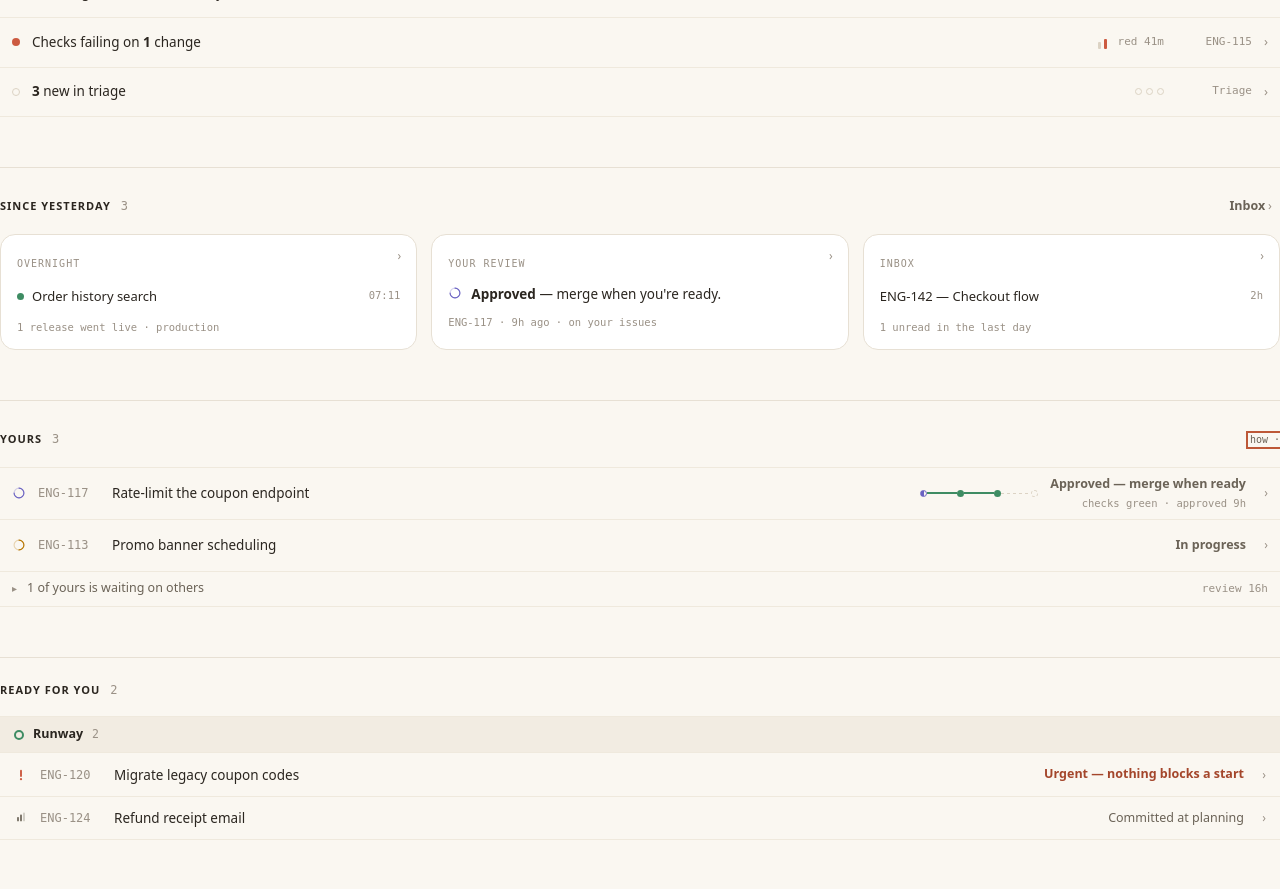
Test case: YOURS carries the bifact rows, the collapsed waiting line and a folded lens definition
(page scrolled)
Expected: the link "Rate-limit the coupon endpoint" shows "Approved — merge when ready", x1=0 y1=467 x2=1279 y2=519
Expected: the link "Rate-limit the coupon endpoint" shows "checks green · approved 9h", x1=0 y1=467 x2=1279 y2=519
Step 1. Click the button with aria-label "How yours is derived" → (1265, 440), box x1=1250 y1=435 x2=1279 y2=445
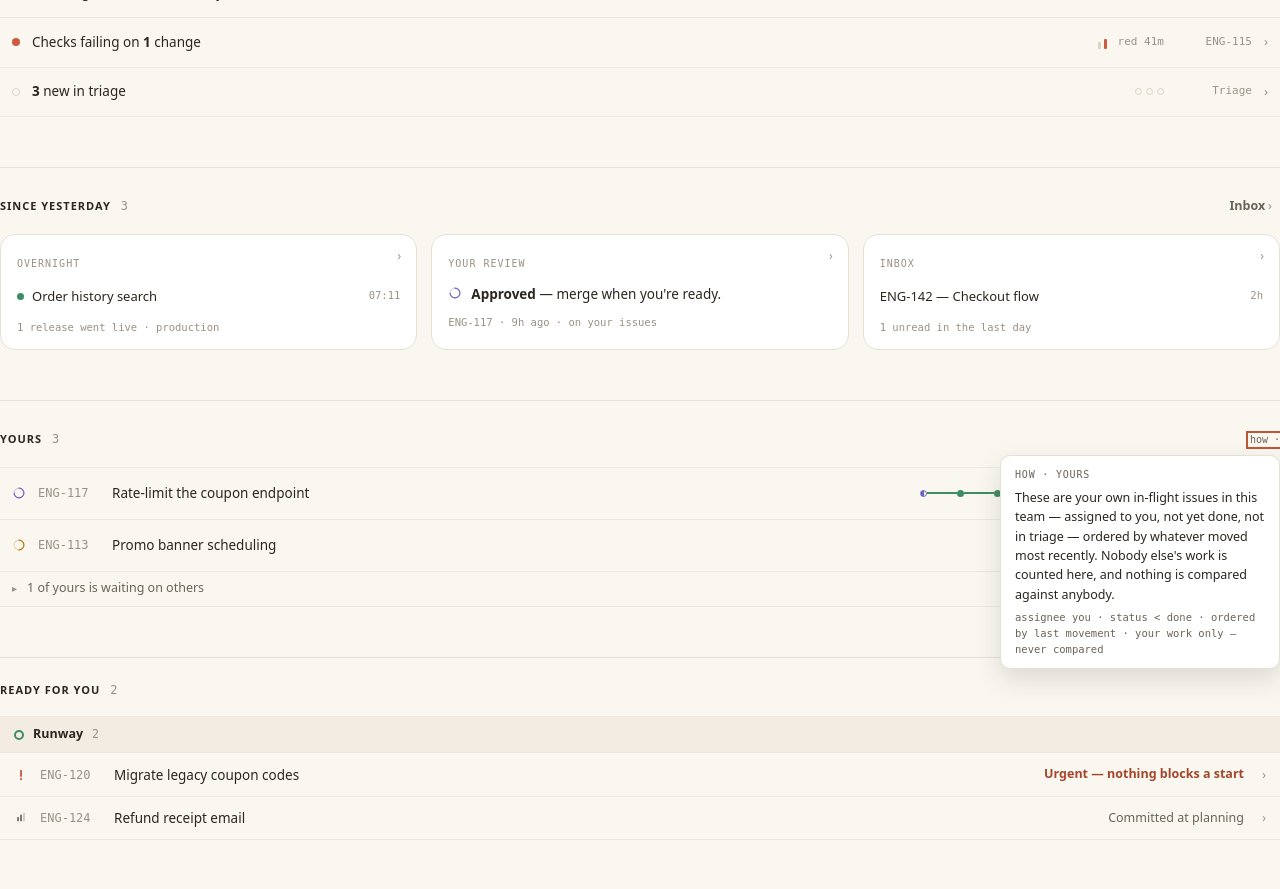
Now the dialog shows "assigned to you", box x1=1015 y1=489 x2=1264 y2=603
Now the dialog shows "your work only — never compared", box x1=1015 y1=611 x2=1255 y2=654
Step 2. Press Escape in the dialog, box x1=1000 y1=455 x2=1279 y2=669
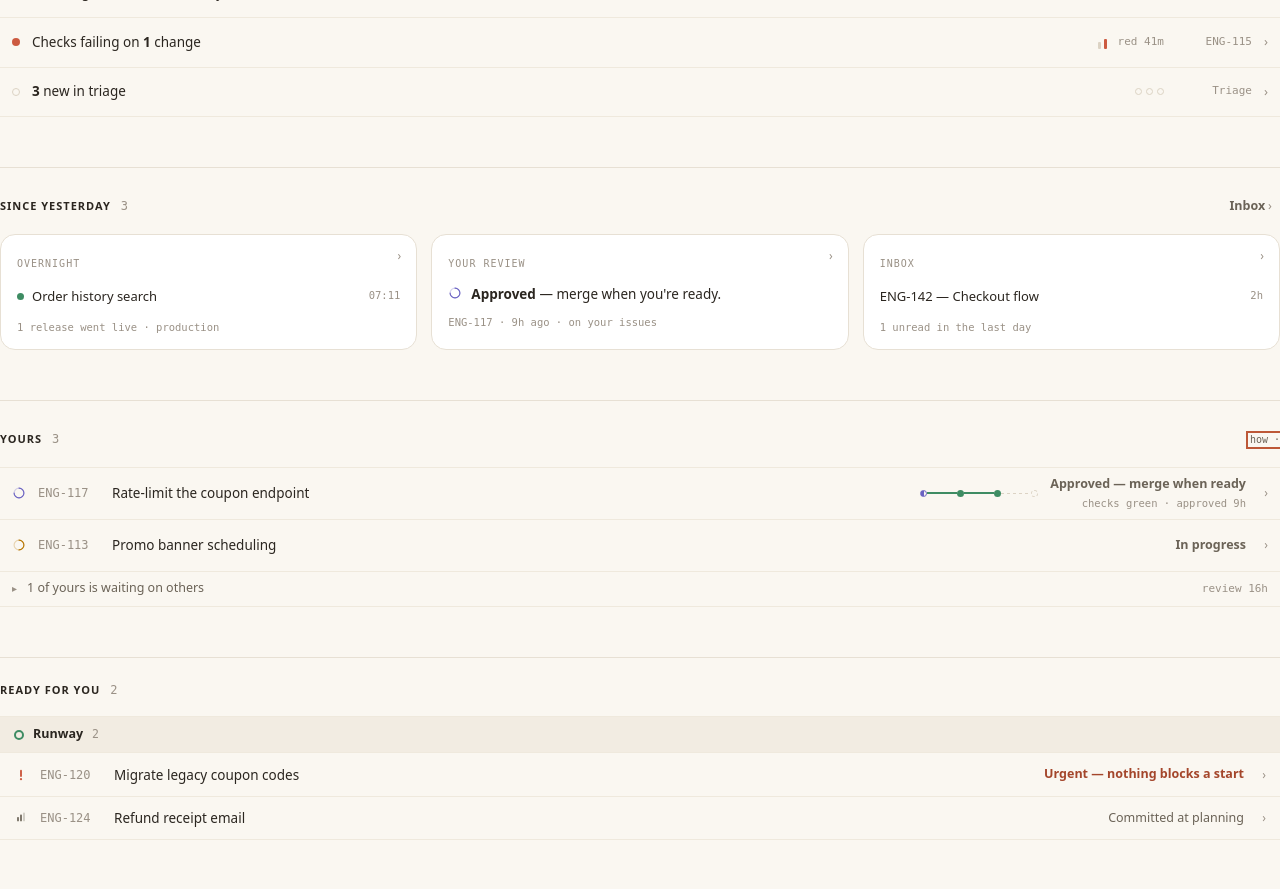
Now the dialog is gone
Now the text "your work only — never compared" is gone
